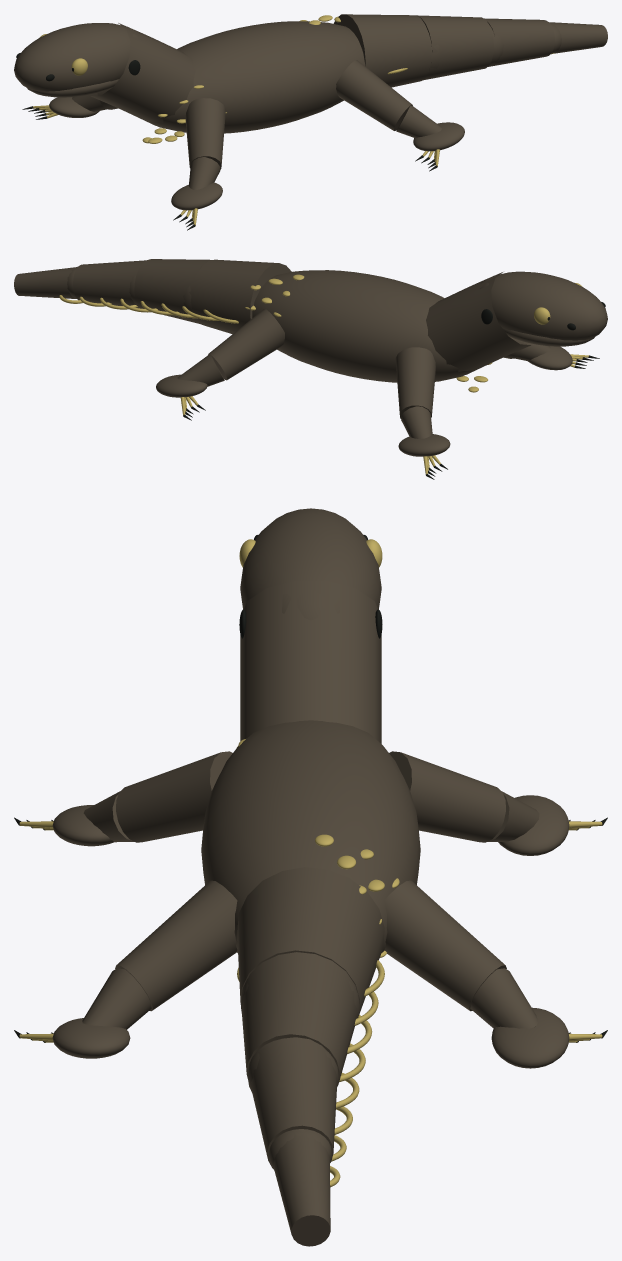
The model's file is clouded-monitor.glb.
3 views of the same model, one above another, from view 1: azimuth 30°, elevation 25°; view 2: azimuth 150°, elevation 25°; view 3: azimuth 270°, elevation 25° (orthographic). The views are drawn at different scales.
Visible parts, largest first — view 1: torso/long-torso, head/short-head, neck/raised-neck, tail/tail-segment-1, tail/tail-segment-2, splayed-limb-system/upper-limb-4, tail/tail-segment-3, splayed-limb-system/upper-limb-2, tail/tail-segment-4, splayed-limb-system/palm-2, splayed-limb-system/palm-4, splayed-limb-system/lower-limb-4 (+4 smaller); view 2: torso/long-torso, head/short-head, neck/raised-neck, tail/tail-segment-1, tail/tail-segment-2, splayed-limb-system/upper-limb-3, tail/tail-segment-3, splayed-limb-system/upper-limb-1, tail/tail-segment-4, splayed-limb-system/palm-1, splayed-limb-system/lower-limb-1, splayed-limb-system/palm-3 (+4 smaller); view 3: torso/long-torso, neck/raised-neck, tail/tail-segment-1, head/short-head, tail/tail-segment-2, splayed-limb-system/upper-limb-4, splayed-limb-system/upper-limb-3, tail/tail-segment-3, splayed-limb-system/upper-limb-1, splayed-limb-system/upper-limb-2, tail/tail-segment-4, splayed-limb-system/palm-3 (+7 smaller).
Boxes of the visible parts, bbox=[...] form: torso/long-torso: bbox=[148, 21, 364, 133]; head/short-head: bbox=[14, 23, 141, 91]; neck/raised-neck: bbox=[90, 23, 195, 125]; tail/tail-segment-1: bbox=[333, 14, 431, 87]; tail/tail-segment-2: bbox=[417, 15, 493, 80]; splayed-limb-system/upper-limb-4: bbox=[336, 60, 412, 130]; tail/tail-segment-3: bbox=[484, 18, 554, 66]; splayed-limb-system/upper-limb-2: bbox=[185, 98, 225, 169]; tail/tail-segment-4: bbox=[549, 22, 607, 53]; splayed-limb-system/palm-2: bbox=[171, 182, 222, 210]; splayed-limb-system/palm-4: bbox=[413, 122, 464, 151]; splayed-limb-system/lower-limb-4: bbox=[396, 105, 441, 137]; torso/long-torso: bbox=[252, 270, 472, 382]; head/short-head: bbox=[479, 271, 607, 340]; neck/raised-neck: bbox=[426, 272, 530, 374]; tail/tail-segment-1: bbox=[191, 259, 291, 333]; tail/tail-segment-2: bbox=[134, 259, 211, 323]; splayed-limb-system/upper-limb-3: bbox=[208, 309, 284, 380]; tail/tail-segment-3: bbox=[73, 260, 145, 308]; splayed-limb-system/upper-limb-1: bbox=[395, 347, 435, 418]; tail/tail-segment-4: bbox=[14, 267, 76, 298]; splayed-limb-system/palm-1: bbox=[398, 434, 450, 456]; splayed-limb-system/lower-limb-1: bbox=[401, 406, 432, 438]; splayed-limb-system/palm-3: bbox=[156, 374, 207, 397]; torso/long-torso: bbox=[201, 720, 420, 952]; neck/raised-neck: bbox=[240, 581, 381, 743]; tail/tail-segment-1: bbox=[237, 867, 384, 1015]; head/short-head: bbox=[240, 508, 381, 620]; tail/tail-segment-2: bbox=[241, 952, 359, 1085]; splayed-limb-system/upper-limb-4: bbox=[115, 880, 237, 1011]; splayed-limb-system/upper-limb-3: bbox=[384, 880, 506, 1011]; tail/tail-segment-3: bbox=[251, 1037, 337, 1168]; splayed-limb-system/upper-limb-1: bbox=[389, 751, 505, 842]; splayed-limb-system/upper-limb-2: bbox=[116, 751, 232, 842]; tail/tail-segment-4: bbox=[273, 1129, 330, 1246]; splayed-limb-system/palm-3: bbox=[491, 1007, 569, 1068].
Bounding box in the file's own units: 3.44 × 0.823 × 1.68.
